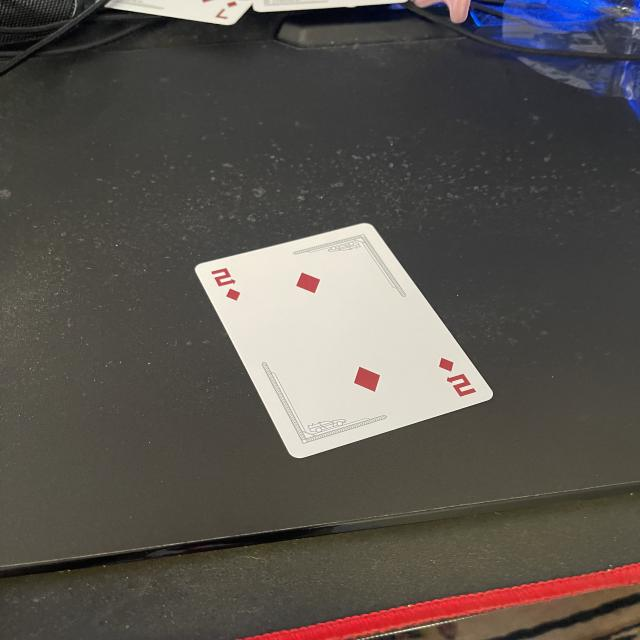2 of diamonds: (193, 223, 495, 462)
